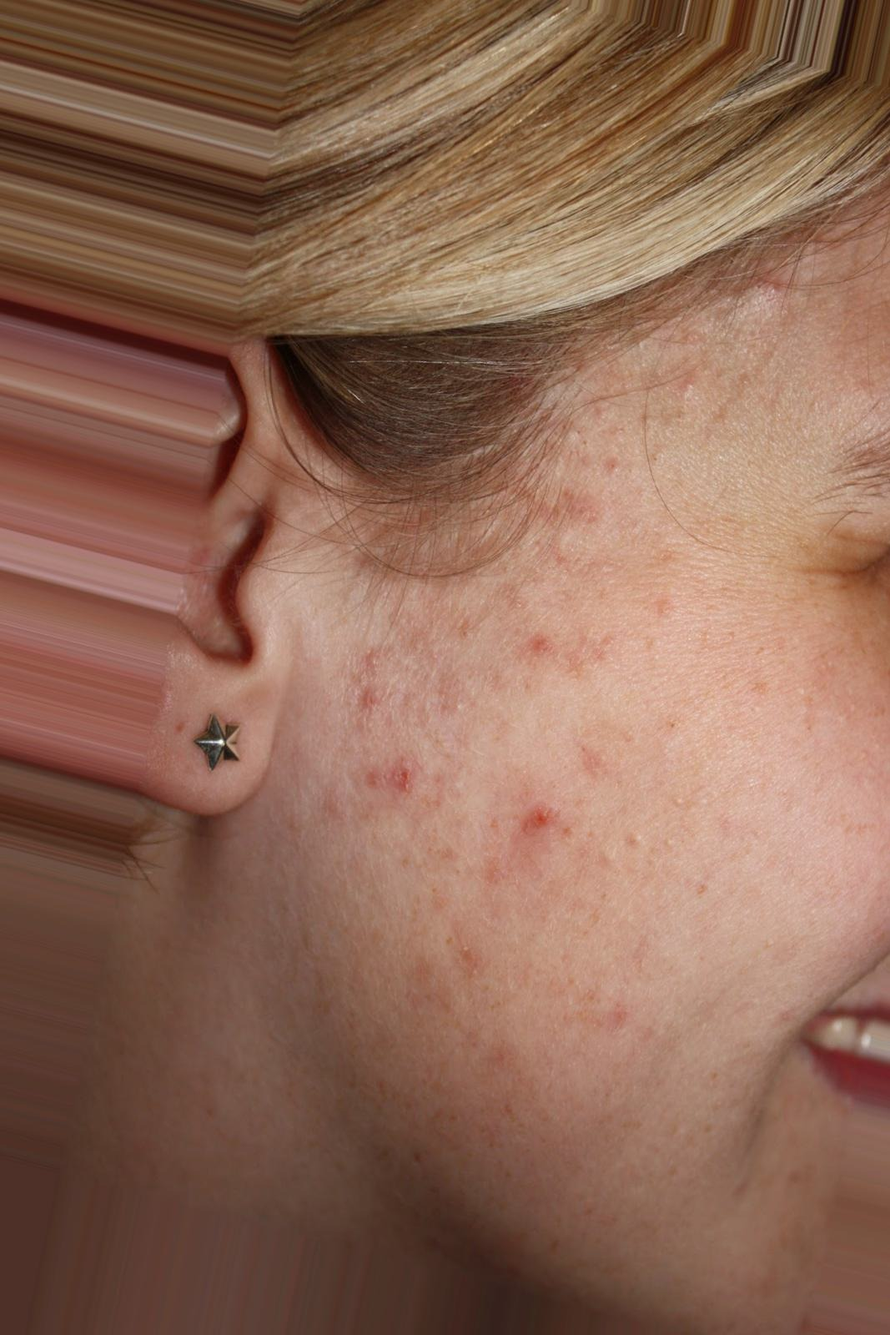Acne: (299, 270, 832, 1048)
